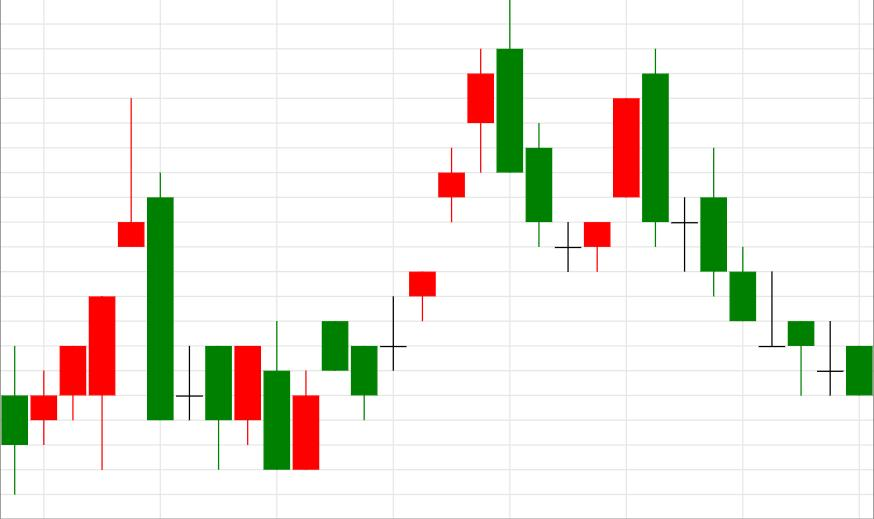bearish_engulfing_fall: (350, 0, 524, 422)
shooting_star_fall: (2, 98, 145, 495)
